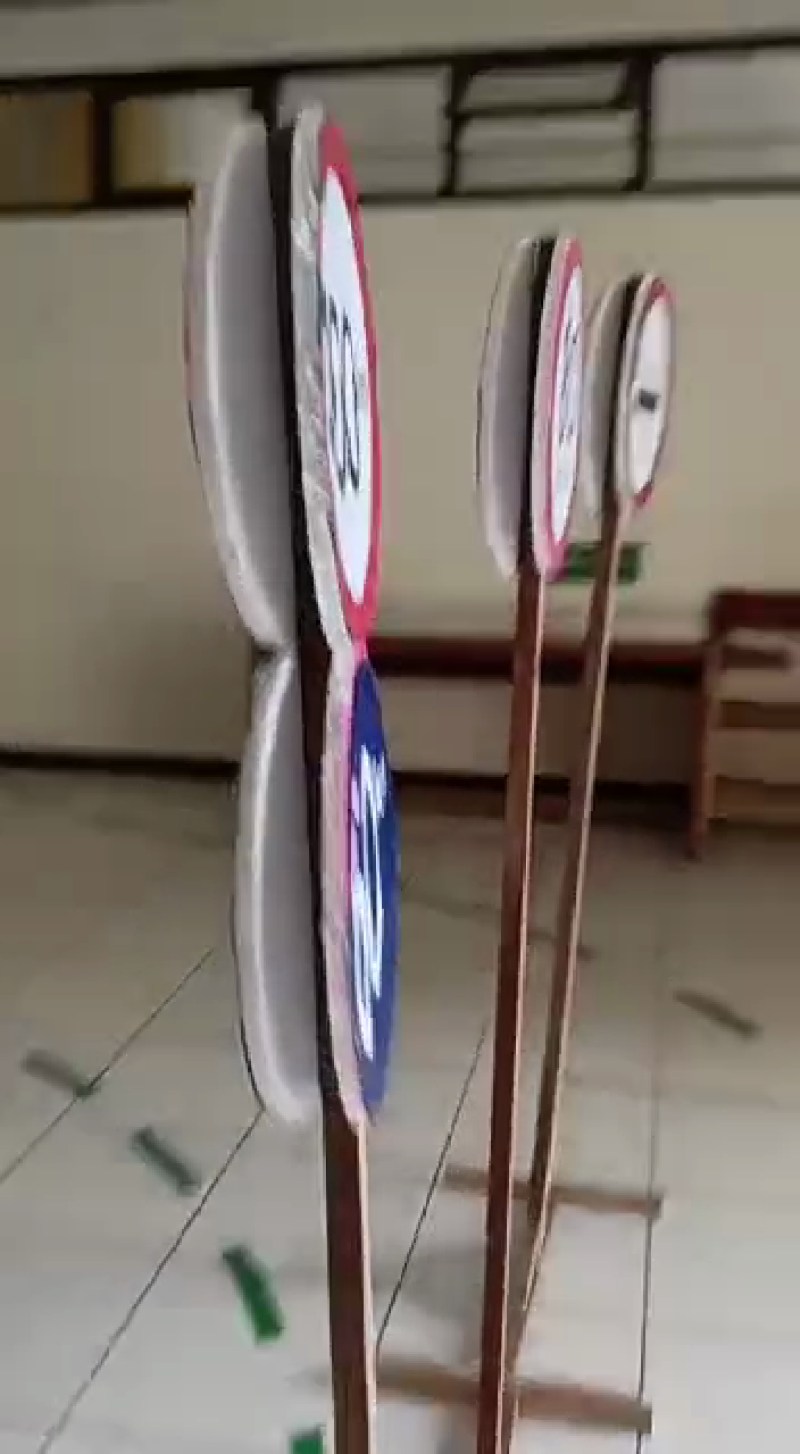batas maksimal 100kmperjam minimal 60kmperjam: (285, 92, 409, 1135)
